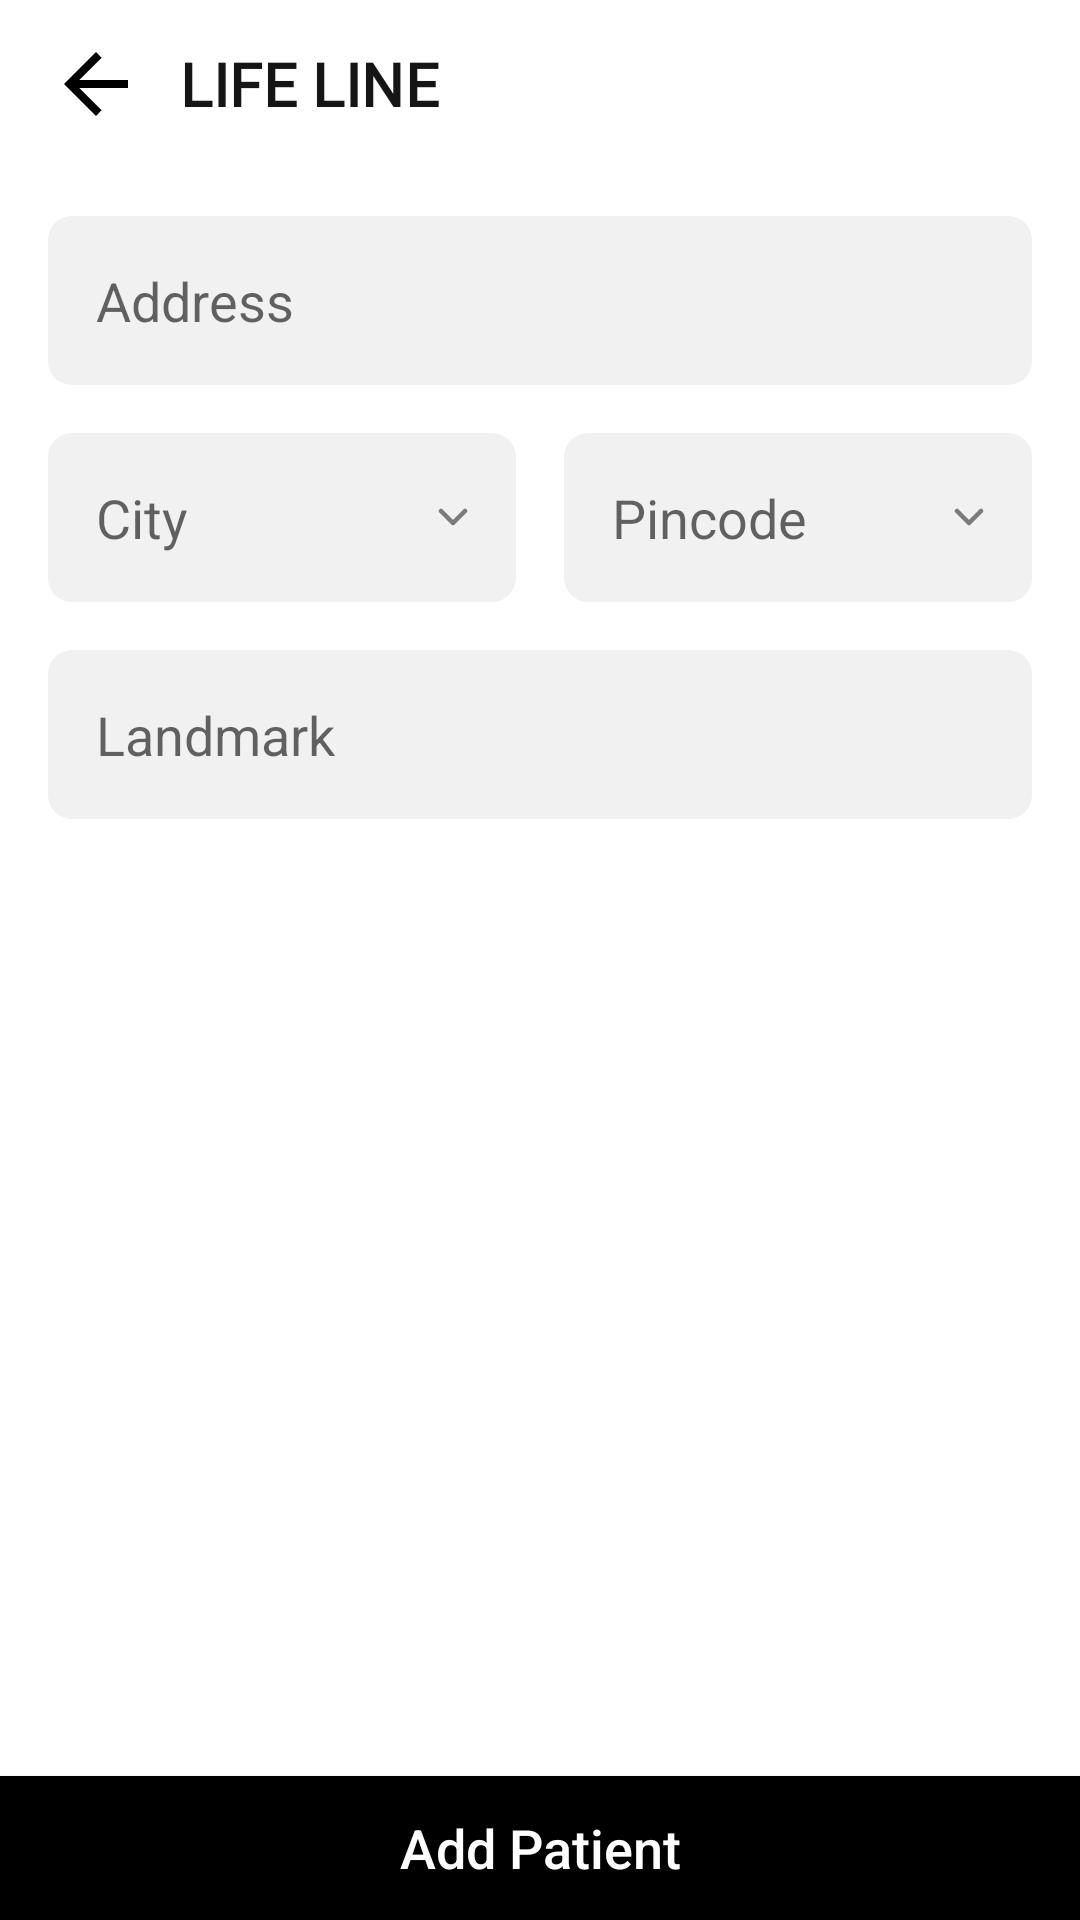

Icon bounding boxes for this 1080w x 1920h phone screenshot, format [left=x1, top=y1, right=x2, bottom=y2]:
arrow back: [left=64, top=52, right=128, bottom=116]
